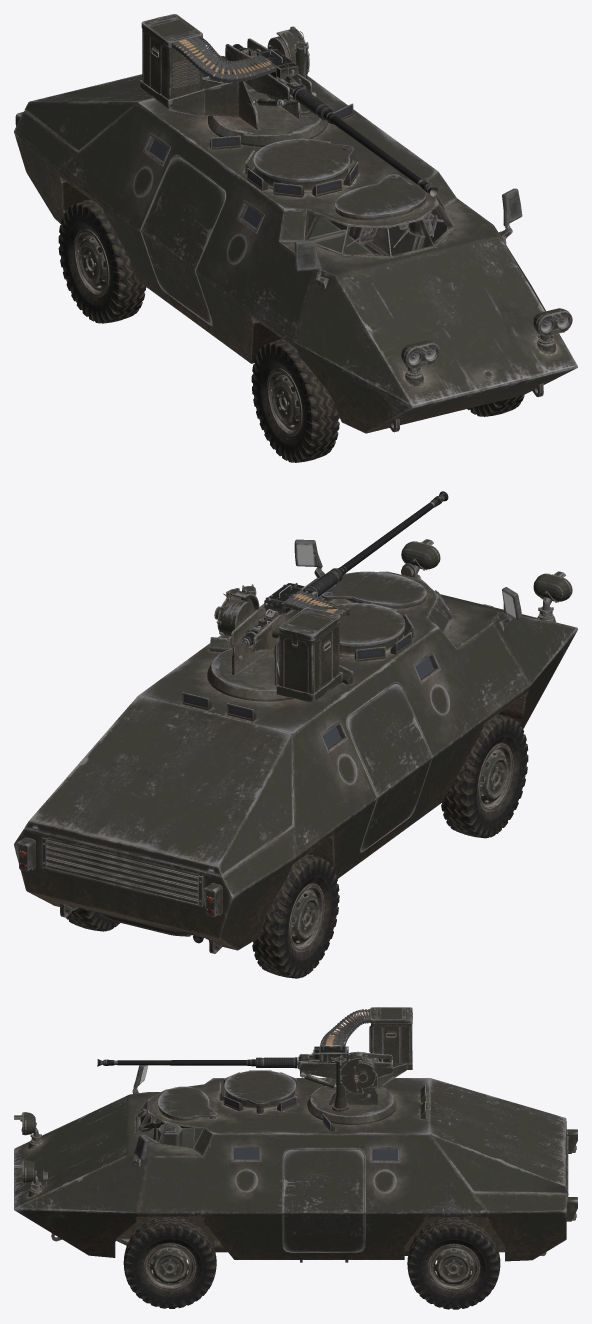
The picture shows the model from 3 angles, top to bottom: view 1: azimuth 30°, elevation 25°; view 2: azimuth 150°, elevation 25°; view 3: azimuth 270°, elevation 25°; orthographic projection. The views are drawn at different scales.
Visible parts, largest first — view 1: vehicle#x_root_22, vehicle#bone_turret_17, vehicle#hatch_03_5, vehicle#wheel_r_01_10, vehicle#wheel_r_02_16, vehicle#hatch_05_0, vehicle#hatch_02_3, vehicle#bone_gun_19, vehicle#hatch_01_4, vehicle#ammo_23, vehicle#hatch_04_8, vehicle#gun_barrel_20 (+5 smaller); view 2: vehicle#x_root_22, vehicle#hatch_05_0, vehicle#bone_turret_17, vehicle#hatch_03_5, vehicle#wheel_r_02_16, vehicle#wheel_r_01_10, vehicle#bone_gun_19, vehicle#hatch_01_4, vehicle#hatch_02_3, vehicle#ex_lantern_r_01_6, vehicle#gun_barrel_20, vehicle#ex_lantern_l_01_7 (+3 smaller); view 3: vehicle#x_root_22, vehicle#hatch_05_0, vehicle#hatch_04_8, vehicle#wheel_l_02_14, vehicle#wheel_l_01_12, vehicle#bone_turret_17, vehicle#bone_gun_19, vehicle#hatch_02_3, vehicle#hatch_01_4, vehicle#gun_barrel_20, vehicle#ammo_23, vehicle#ex_lantern_l_01_7 (+1 smaller).
Part boxes in pixels (box(x1,y1,x2,y2)): vehicle#x_root_22: box(14, 76, 577, 433); vehicle#bone_turret_17: box(139, 14, 327, 146); vehicle#hatch_03_5: box(141, 156, 225, 324); vehicle#wheel_r_01_10: box(251, 339, 339, 462); vehicle#wheel_r_02_16: box(58, 199, 146, 323); vehicle#hatch_05_0: box(24, 55, 226, 151); vehicle#hatch_02_3: box(253, 139, 354, 182); vehicle#bone_gun_19: box(225, 38, 332, 120); vehicle#hatch_01_4: box(334, 174, 426, 217); vehicle#ammo_23: box(171, 36, 275, 82); vehicle#hatch_04_8: box(353, 213, 432, 255); vehicle#gun_barrel_20: box(323, 110, 438, 197); vehicle#x_root_22: box(14, 563, 577, 953); vehicle#hatch_05_0: box(24, 695, 292, 875); vehicle#bone_turret_17: box(207, 584, 342, 702); vehicle#hatch_03_5: box(347, 683, 431, 851); vehicle#wheel_r_02_16: box(252, 854, 339, 978); vehicle#wheel_r_01_10: box(441, 714, 528, 838); vehicle#bone_gun_19: box(231, 568, 342, 652); vehicle#hatch_01_4: box(322, 571, 426, 606); vehicle#hatch_02_3: box(331, 603, 405, 646); vehicle#ex_lantern_r_01_6: box(533, 571, 572, 615); vehicle#gun_barrel_20: box(337, 491, 448, 575); vehicle#ex_lantern_l_01_7: box(401, 539, 440, 579); vehicle#x_root_22: box(14, 1070, 577, 1262); vehicle#hatch_05_0: box(430, 1078, 566, 1193); vehicle#hatch_04_8: box(284, 1149, 364, 1251); vehicle#wheel_l_02_14: box(407, 1217, 500, 1309); vehicle#wheel_l_01_12: box(123, 1217, 216, 1308); vehicle#bone_turret_17: box(307, 1007, 412, 1124); vehicle#bone_gun_19: box(256, 1045, 393, 1079); vehicle#hatch_02_3: box(224, 1070, 296, 1105); vehicle#hatch_01_4: box(158, 1086, 217, 1118); vehicle#gun_barrel_20: box(97, 1059, 255, 1066); vehicle#ammo_23: box(320, 1009, 370, 1046); vehicle#ex_lantern_l_01_7: box(14, 1160, 41, 1188).
Size of the model in its own units: 1.78 by 2.25 by 4.94.
Materials: 10 (10 with a texture image).
